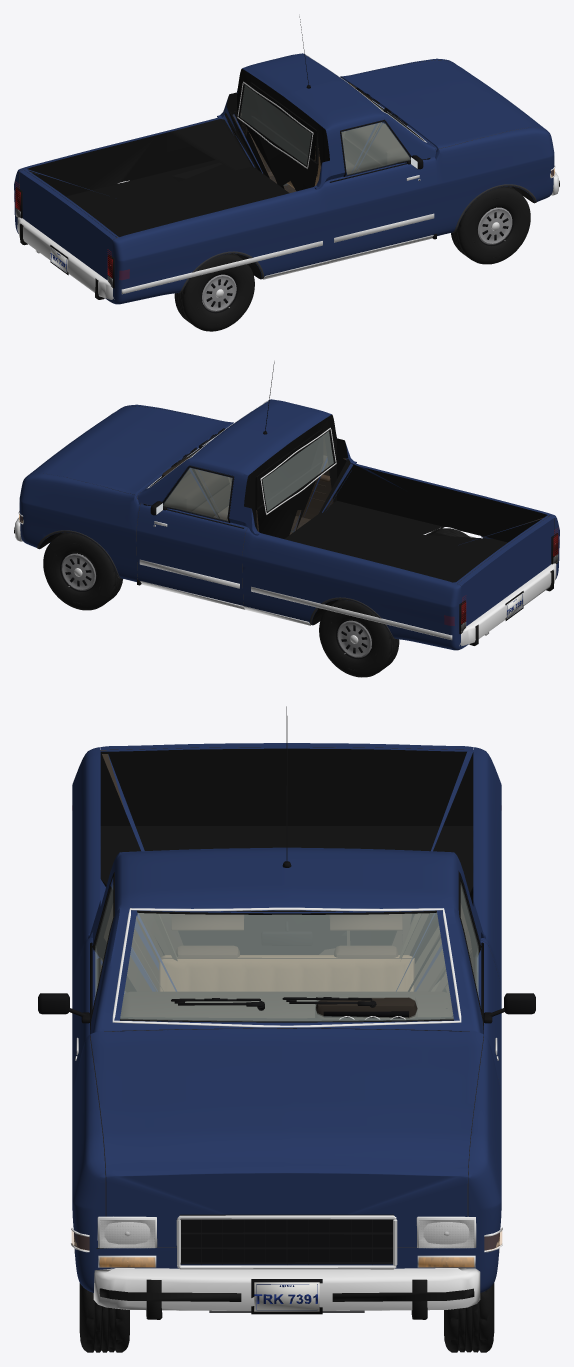
File: pickup87_lod1.glb
3 renders of one model, top to bottom at view 1: azimuth 30°, elevation 25°; view 2: azimuth 150°, elevation 25°; view 3: azimuth 270°, elevation 25°, orthographic. The views are drawn at different scales.
Parts seen in each view (by area): view 1: Body, Hood, Tailgate, Wheel_FR_mesh, Wheel_RR_mesh, Glass, Glass_FR, Interior, Trim, Bumper_R, Trim_FR, Door_FR (+1 smaller); view 2: Body, Hood, Door_FL, Tailgate, Wheel_FL_mesh, Wheel_RL_mesh, Glass, Glass_FL, Trim, Interior, Bumper_R, Trim_FL (+1 smaller); view 3: Body, Hood, Glass, Interior, Ends, Bumper_F, Lamps_Head, Door_FL, Wheel_FR_mesh, Wheel_FL_mesh, Tailgate, Trim (+6 smaller).
Part boxes in pixels (x1,y1,x2,y2): Body: [14, 53, 554, 304]; Hood: [340, 60, 548, 152]; Tailgate: [19, 170, 116, 280]; Wheel_FR_mesh: [451, 186, 530, 264]; Wheel_RR_mesh: [174, 253, 254, 331]; Glass: [237, 54, 426, 168]; Glass_FR: [341, 122, 410, 176]; Interior: [287, 82, 407, 188]; Trim: [121, 16, 536, 294]; Bumper_R: [17, 217, 114, 299]; Trim_FR: [329, 119, 434, 263]; Door_FR: [326, 120, 437, 259]; Body: [19, 399, 559, 650]; Hood: [25, 406, 233, 498]; Door_FL: [136, 465, 248, 605]; Tailgate: [457, 516, 554, 626]; Wheel_FL_mesh: [43, 532, 122, 610]; Wheel_RL_mesh: [319, 599, 399, 677]; Glass: [146, 400, 336, 514]; Glass_FL: [163, 466, 234, 522]; Trim: [37, 361, 485, 640]; Interior: [161, 457, 232, 520]; Bumper_R: [459, 563, 556, 646]; Trim_FL: [139, 465, 244, 609]; Body: [72, 747, 501, 1292]; Hood: [90, 1028, 483, 1247]; Glass: [112, 907, 461, 1027]; Interior: [120, 914, 453, 1031]; Ends: [71, 1214, 502, 1314]; Bumper_F: [93, 1268, 480, 1319]; Lamps_Head: [100, 1221, 473, 1248]; Door_FL: [458, 871, 501, 1090]; Wheel_FR_mesh: [79, 1248, 129, 1352]; Wheel_FL_mesh: [444, 1283, 494, 1352]; Tailgate: [100, 743, 473, 749]; Trim: [74, 706, 499, 1253].
Bounding box in the file's own units: 4.96 × 2.56 × 2.33.
Materials: 34 (5 with a texture image).
